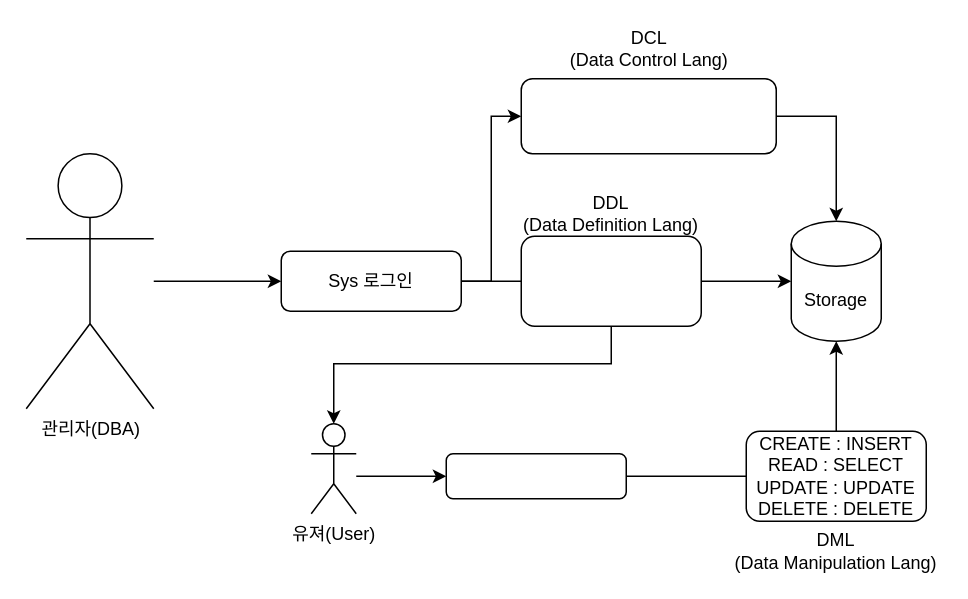
This 968x599 diagram has some shape labels left out. Each missing label, with the centre of its shape:
DB,User Create DB,User DROP DB Alter: point (610, 280)
GRANT, REVOKE COMMIT, ROLL BACK: point (648, 115)
User 로그인: point (535, 475)
